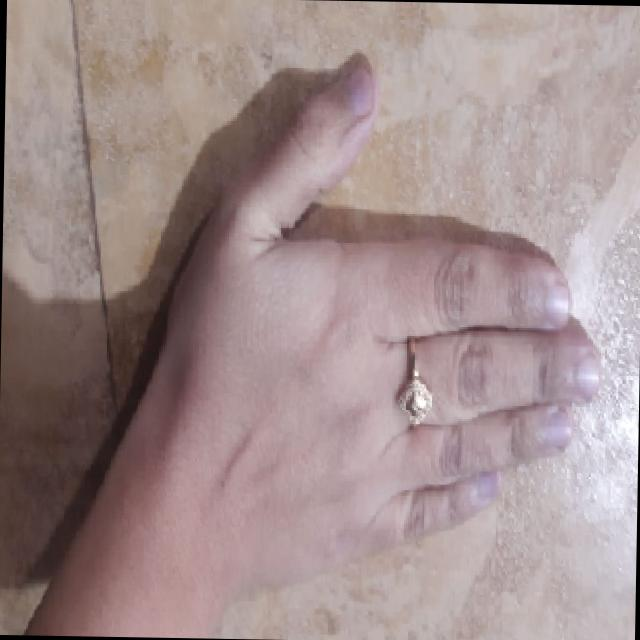Nail: (342, 67, 372, 120), (572, 355, 599, 396), (544, 284, 568, 325), (544, 415, 570, 449), (475, 472, 498, 499)
